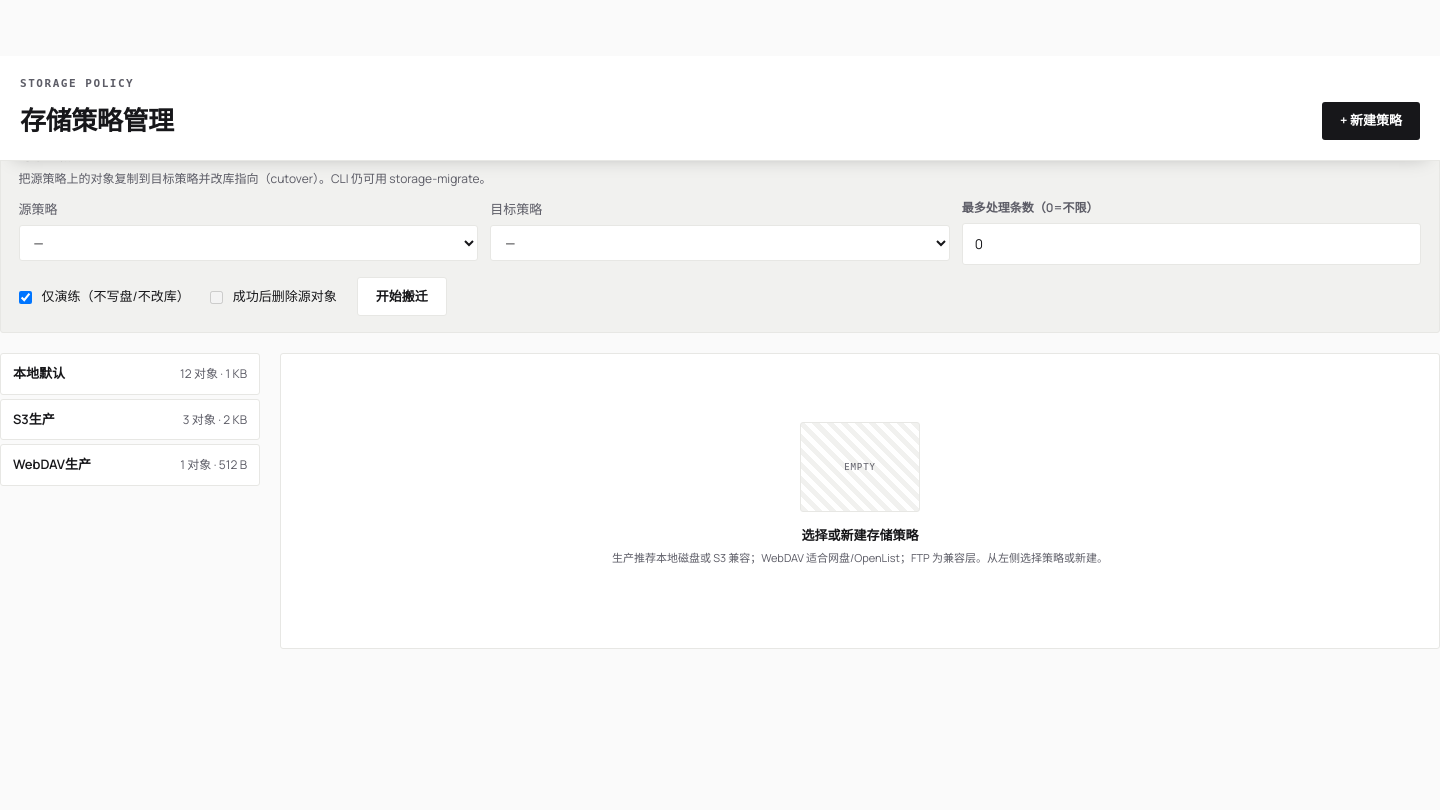
Scenario: 列表 + 载入表单:root 从 config 解析
Click the text "本地默认" at (39, 374), box [13,364,65,384]
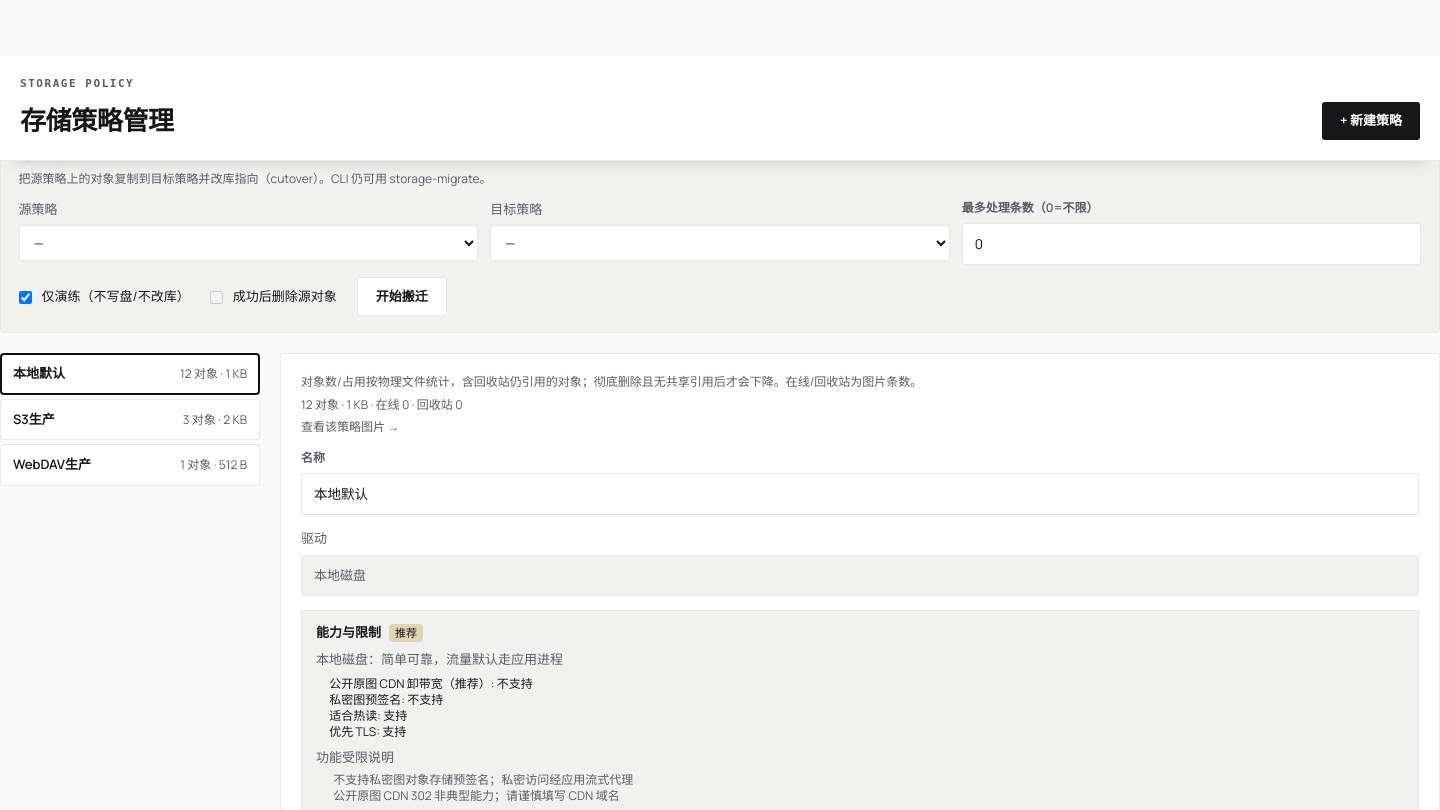
Check: the text "本地磁盘" is shown, box [301,554,1419,596]
